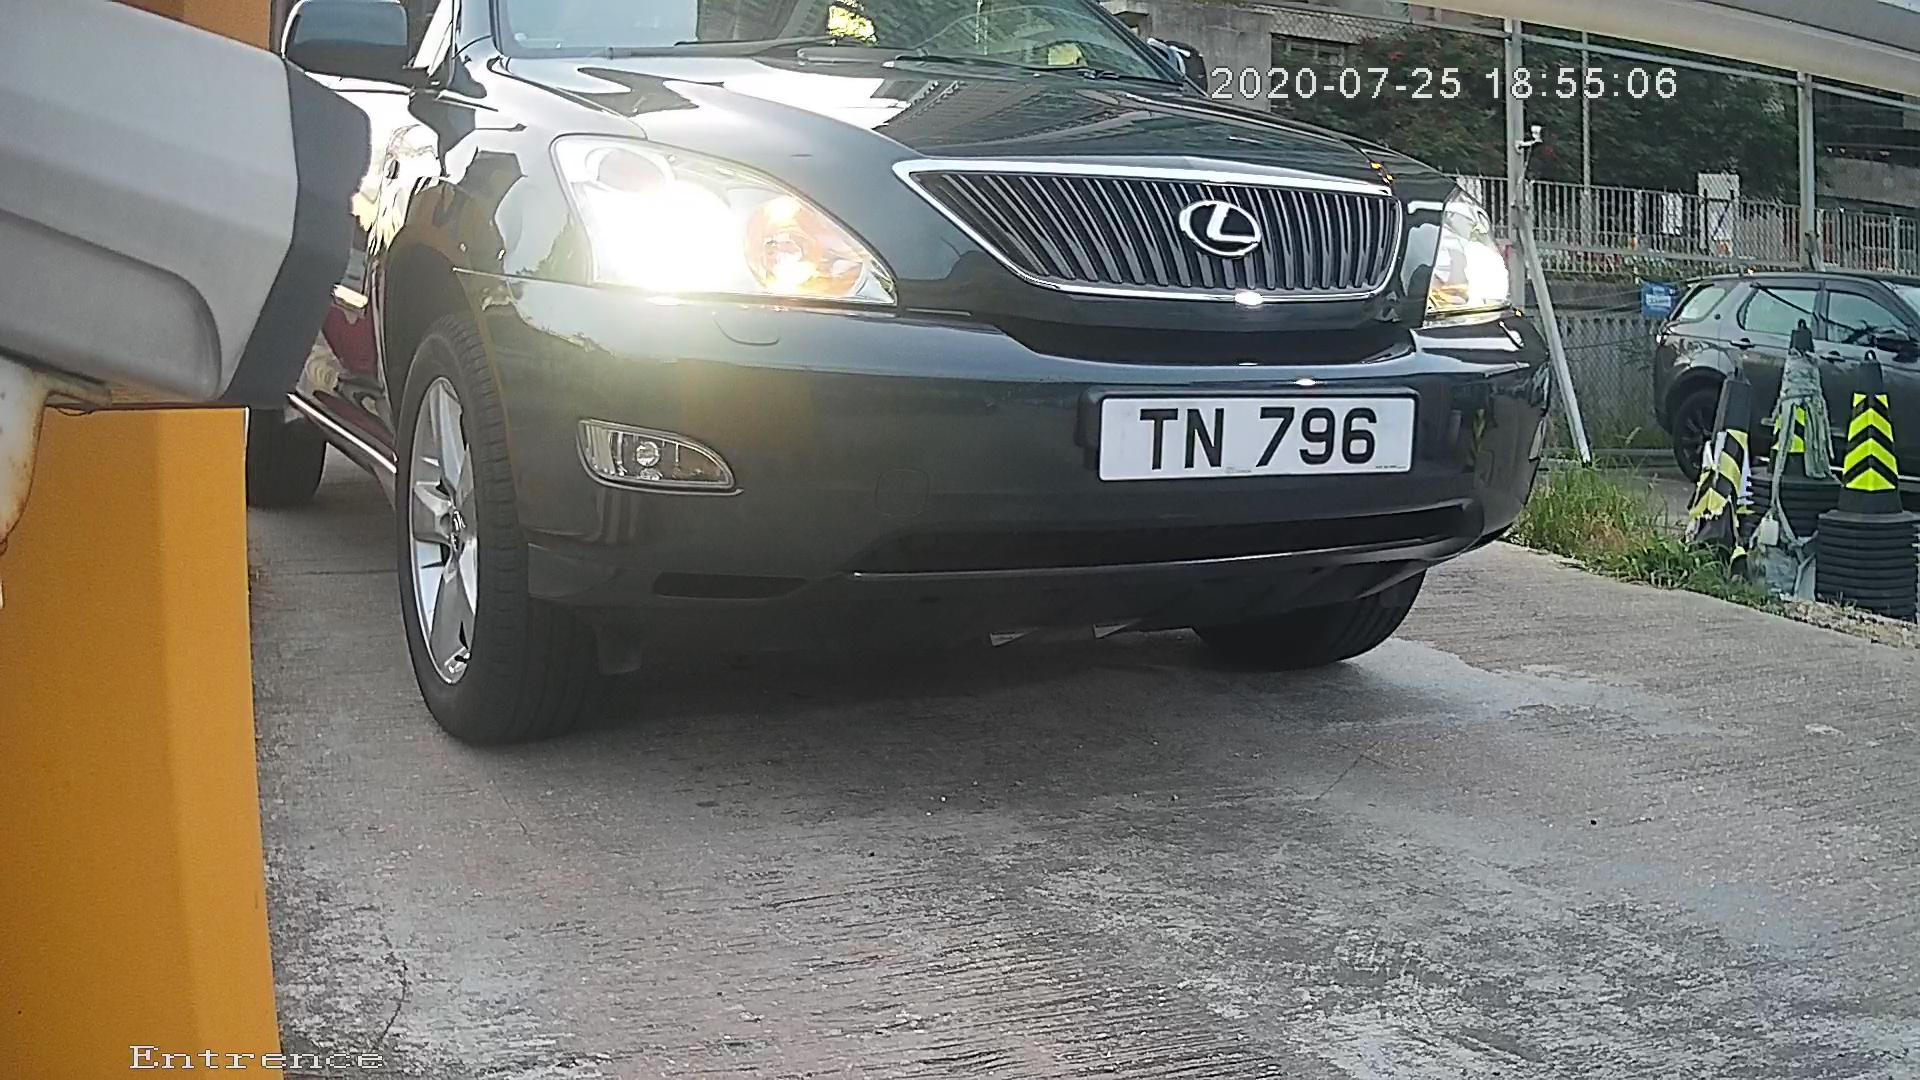License Plate: (1046, 377, 1441, 497)
